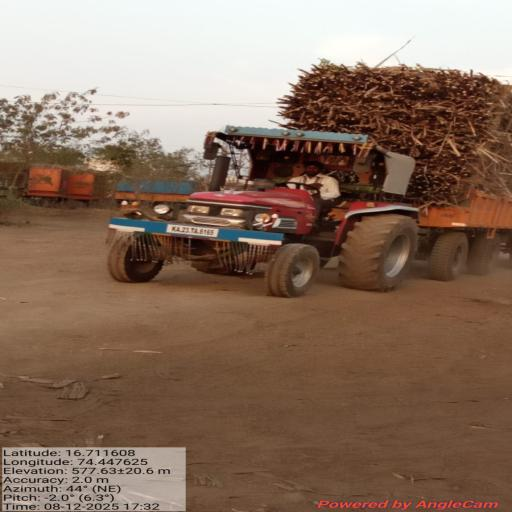number_plate: (160, 221, 230, 244)
